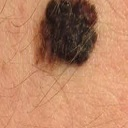Melanoma: (44, 1, 97, 66)
